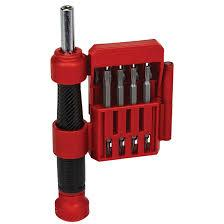screwdriver: (50, 4, 87, 221)
